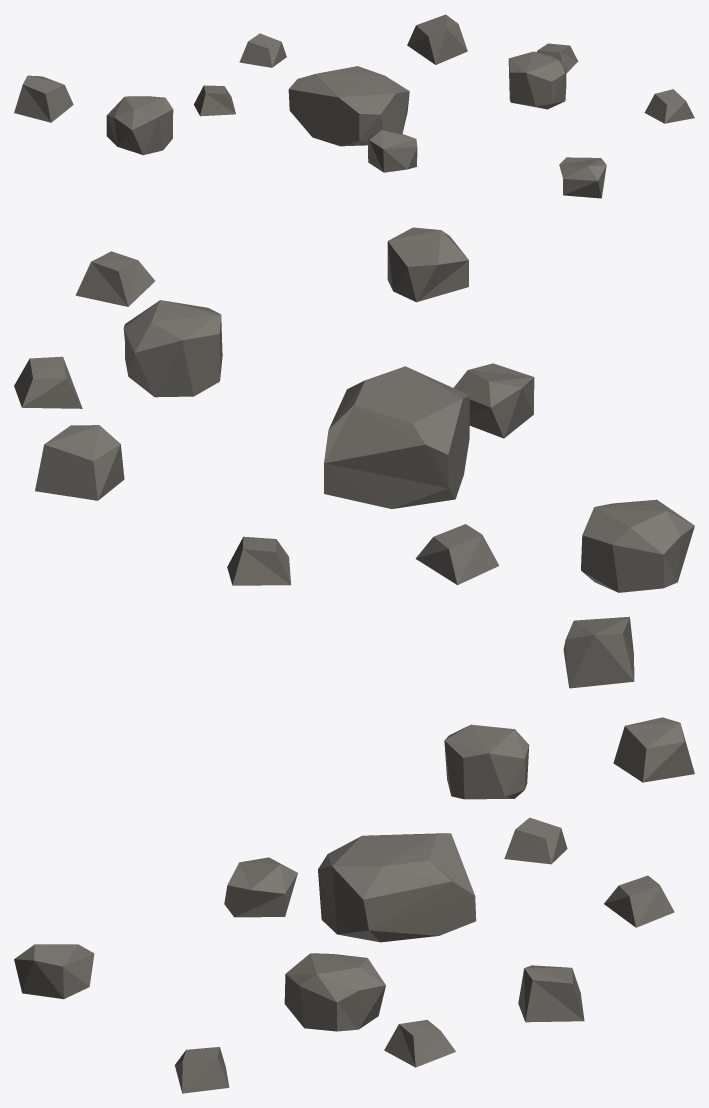
Rendered from rubble.glb.
The picture shows the model from 3 angles, top to bottom: view 1: azimuth 30°, elevation 25°; view 2: azimuth 150°, elevation 25°; view 3: azimuth 270°, elevation 25°; orthographic projection. The views are drawn at different scales.
Visible parts, largest first — view 1: SM_Env_Rubble_Rocks_01; view 2: SM_Env_Rubble_Rocks_01; view 3: SM_Env_Rubble_Rocks_01.
Part boxes in pixels (x1,y1,x2,y2): SM_Env_Rubble_Rocks_01: (14,14,694,198); SM_Env_Rubble_Rocks_01: (14,227,694,688); SM_Env_Rubble_Rocks_01: (14,717,694,1093).
Bounding box in the file's own units: 2.49 × 0.2811 × 2.09.
1 material, 1 textured.
